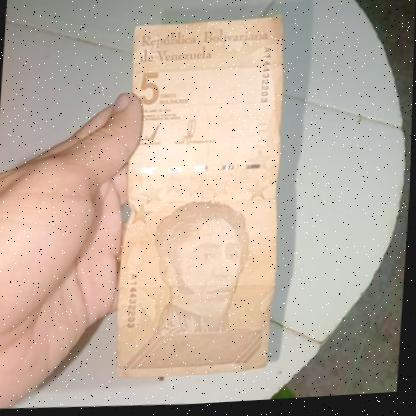five-front-vef: (112, 16, 290, 387)
